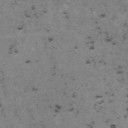oxide scale of temperature system: (30, 13, 128, 128), (18, 4, 70, 42), (6, 45, 30, 64), (0, 103, 2, 108)
